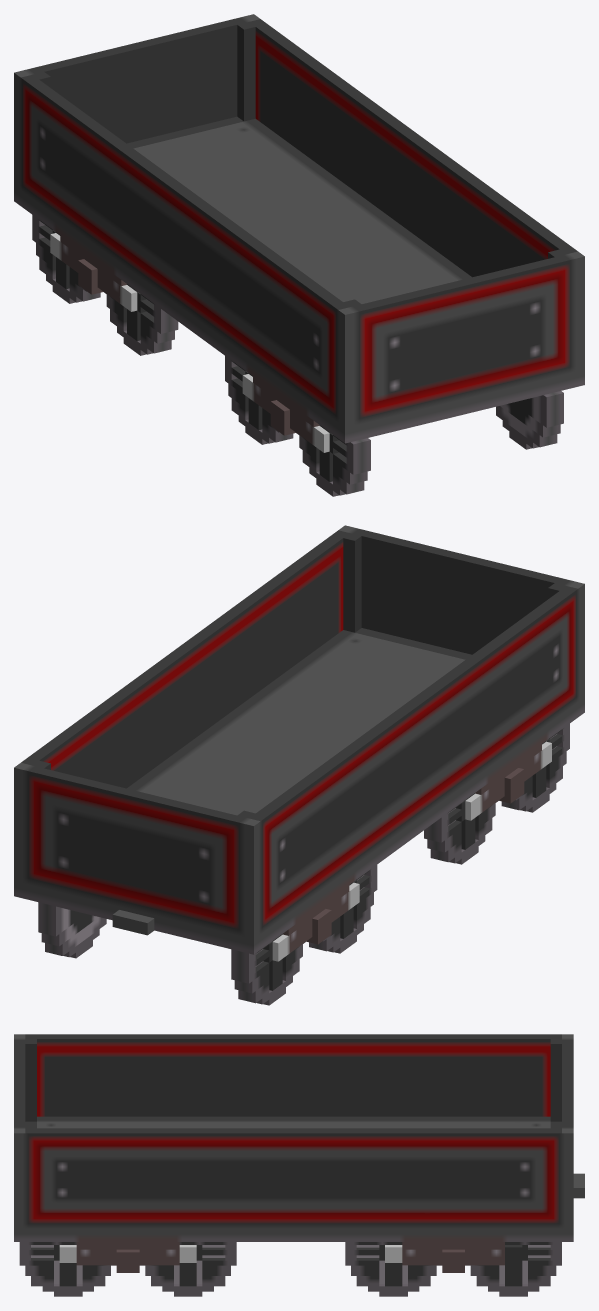
File: empty wagon.obj
3 views of the same model, one above another, from view 1: azimuth 30°, elevation 25°; view 2: azimuth 150°, elevation 25°; view 3: azimuth 270°, elevation 25° (orthographic). The views are drawn at different scales.
Size of the model in its own units: 41 by 33 by 100.
1 material, 1 textured.
